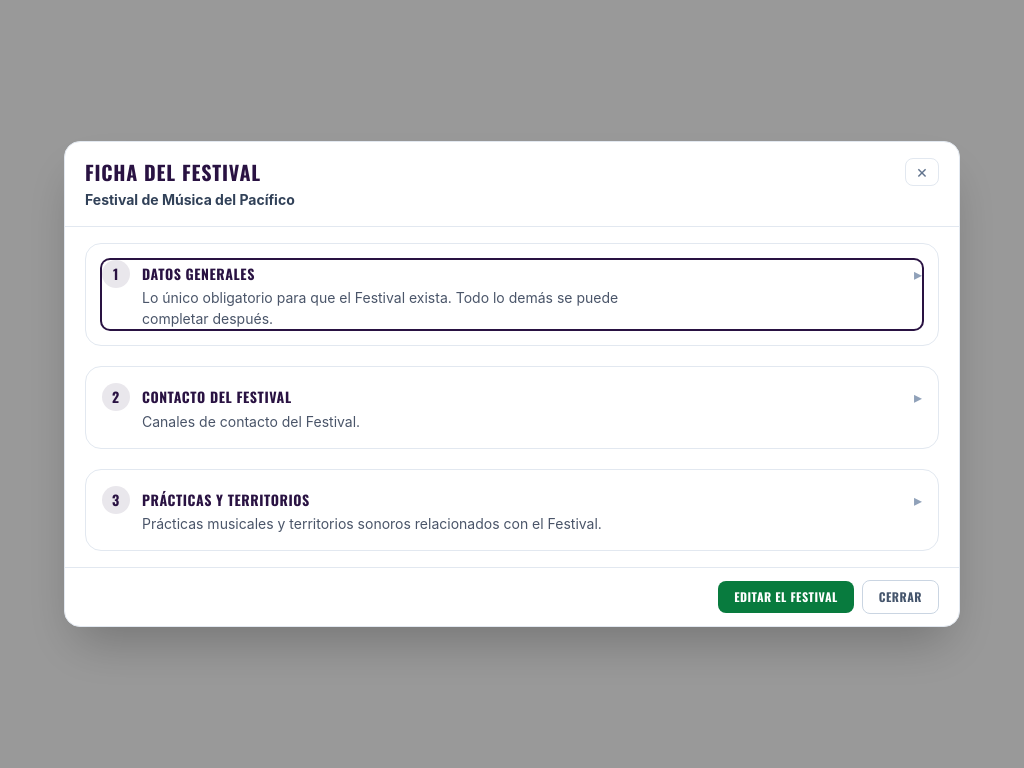
Test case: FichaFestivalComponent · la misma vista para leer, editar y crear › un Festival sin ninguna edición se puede editar
This screenshot has width=1024, height=768.
Click the button "Editar el Festival": (786, 597) [718,581,854,613]
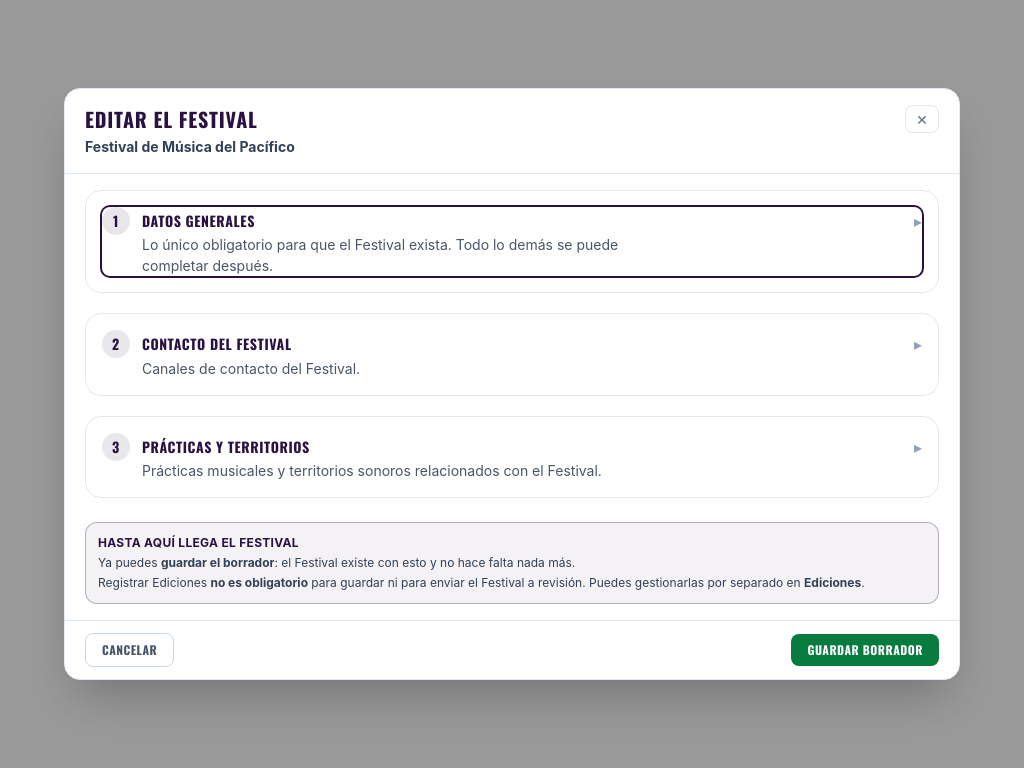
Click the button that starts with "Datos generales": (512, 242) [102,207,922,276]
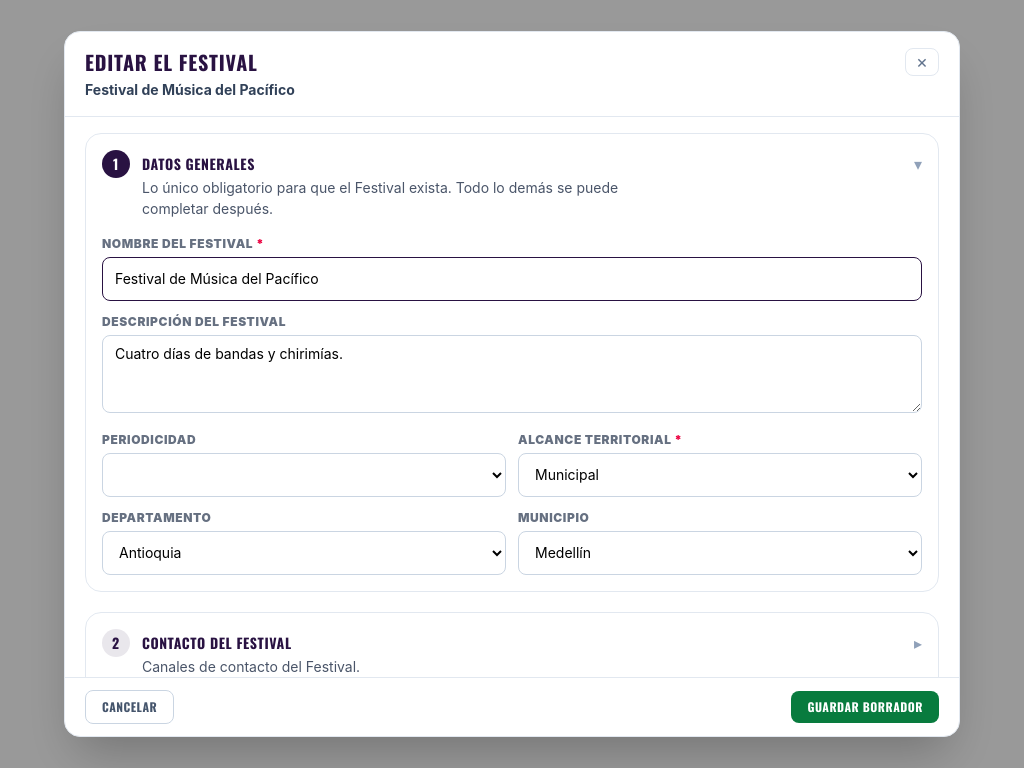
Now the field named "nombre" holds "Festival de Música del Pacífico", box [102,257,922,301]
